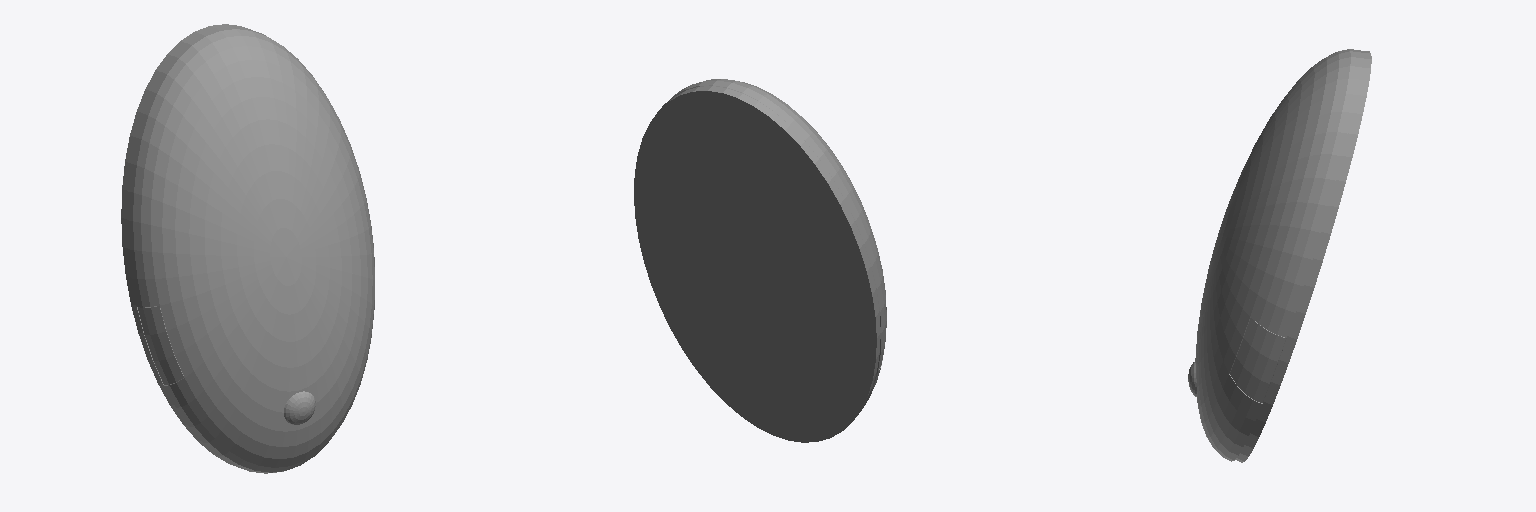
Rendered from mouse_imac.obj.
The picture shows the model from 3 angles: view 1: azimuth 30°, elevation 25°; view 2: azimuth 150°, elevation 25°; view 3: azimuth 270°, elevation 25°; orthographic projection.
Parts seen in each view (by area): view 1: mouse_imac; view 2: mouse_imac; view 3: mouse_imac.
Boxes of the visible parts, box(x1,y1,x2,y2) form: mouse_imac: box(121, 24, 374, 473); mouse_imac: box(634, 79, 886, 442); mouse_imac: box(1188, 49, 1371, 462).
Bounding box in the file's own units: 29.91 × 48.54 × 20.28.